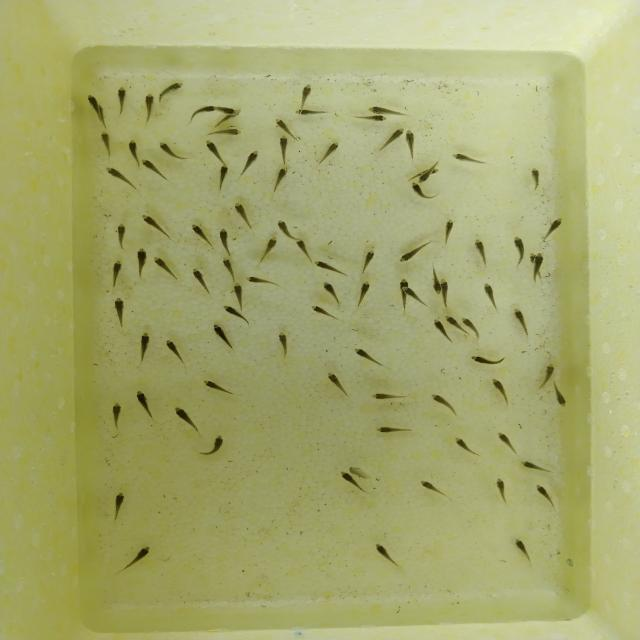fingerling: (118, 544, 154, 570), (197, 433, 230, 459), (133, 389, 157, 422), (326, 371, 353, 400), (449, 152, 492, 170), (468, 353, 508, 372), (372, 542, 400, 569), (173, 405, 200, 432), (396, 243, 426, 267), (108, 296, 130, 328), (203, 139, 231, 164), (533, 482, 558, 510), (513, 306, 532, 342), (109, 487, 128, 523), (139, 213, 170, 235), (428, 392, 456, 416), (244, 273, 286, 289), (242, 148, 264, 178), (219, 305, 252, 325), (164, 339, 190, 364), (379, 128, 405, 153), (152, 254, 179, 278), (132, 246, 150, 282), (140, 158, 168, 180), (104, 166, 134, 186), (209, 324, 232, 350), (491, 376, 512, 404), (272, 164, 293, 192), (451, 435, 476, 458), (496, 430, 518, 456), (544, 216, 566, 242), (232, 202, 254, 228), (157, 140, 185, 160), (352, 346, 380, 366), (550, 382, 570, 410), (310, 304, 341, 322), (511, 233, 526, 270), (190, 268, 211, 294), (512, 536, 532, 563), (188, 223, 211, 246), (319, 141, 341, 165), (136, 331, 152, 364), (368, 391, 412, 403), (275, 331, 292, 362), (471, 238, 488, 269), (188, 105, 217, 123), (518, 459, 550, 475), (494, 474, 510, 506), (109, 398, 124, 432), (320, 280, 343, 302), (408, 183, 434, 202), (98, 129, 114, 159), (215, 227, 231, 257), (417, 478, 443, 496), (428, 262, 442, 295), (225, 283, 248, 303), (356, 280, 373, 307), (260, 236, 279, 260), (110, 258, 124, 290), (85, 93, 102, 119), (539, 361, 556, 387), (460, 316, 481, 337), (276, 218, 296, 240), (275, 118, 296, 138), (314, 260, 342, 275), (404, 130, 418, 160), (202, 378, 230, 393), (275, 135, 290, 163), (160, 82, 186, 98), (221, 258, 238, 282), (481, 282, 496, 309), (294, 240, 313, 261), (403, 286, 421, 308), (442, 218, 456, 246), (530, 165, 544, 193), (115, 86, 129, 114), (125, 139, 140, 165), (297, 82, 313, 106), (352, 114, 390, 124), (142, 93, 155, 122), (361, 249, 377, 272), (207, 127, 243, 137), (441, 275, 451, 311), (117, 221, 128, 253), (372, 426, 415, 434), (366, 105, 400, 115), (218, 164, 230, 192), (293, 109, 331, 117), (534, 252, 544, 280), (442, 313, 460, 326), (430, 319, 445, 331), (417, 174, 435, 184), (348, 464, 366, 474), (338, 472, 352, 484), (222, 106, 238, 116)
